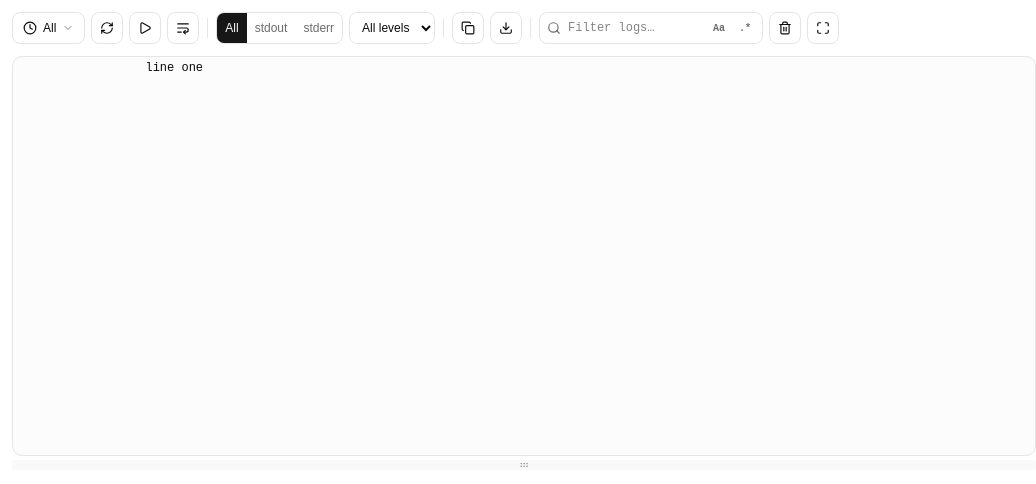
Test: LogViewer › shows 'No matching log lines' when search has no results
Expected: the text "line one" is shown, [146,57,1035,79]
Type "nonexistent" into the field with placeholder "Filter logs…".
click(651, 28); type("nonexistent")  # box [539,12,763,44]
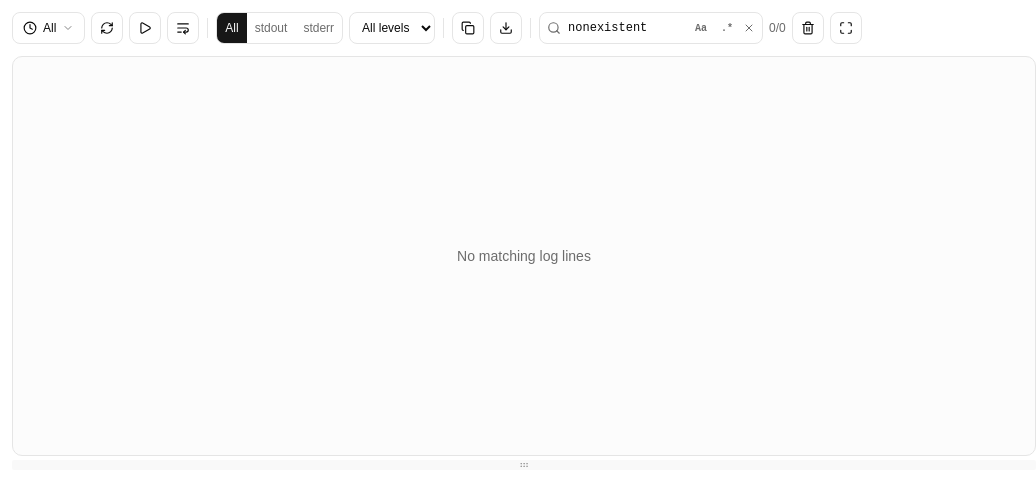
Now the text "No matching log lines" is shown, box [457,246,591,266]
